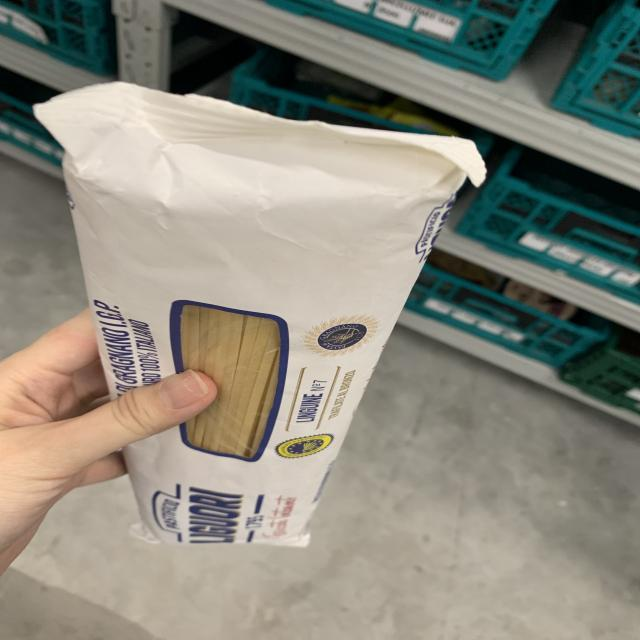object_name: (71, 99, 472, 552)
